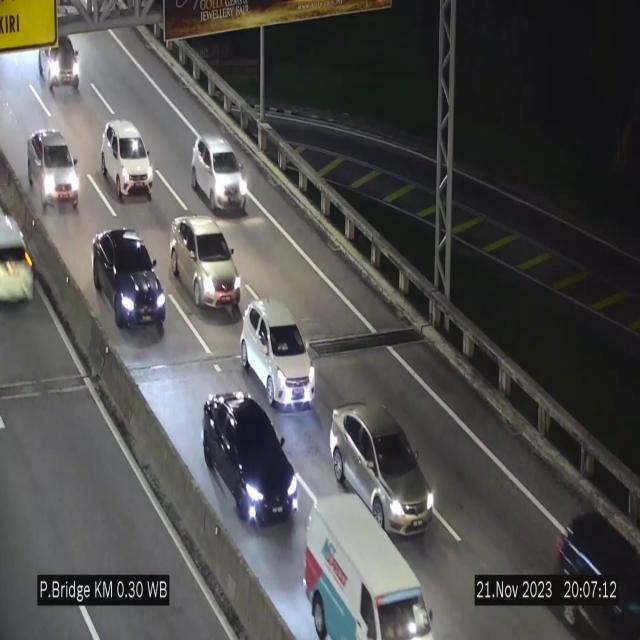Car: (306, 495, 436, 640), (202, 383, 300, 541), (541, 496, 640, 640), (329, 399, 435, 532), (93, 229, 165, 337), (241, 302, 315, 406), (170, 215, 242, 309), (23, 122, 85, 218), (192, 134, 248, 213), (102, 120, 153, 200), (0, 208, 35, 317), (37, 23, 87, 94)
